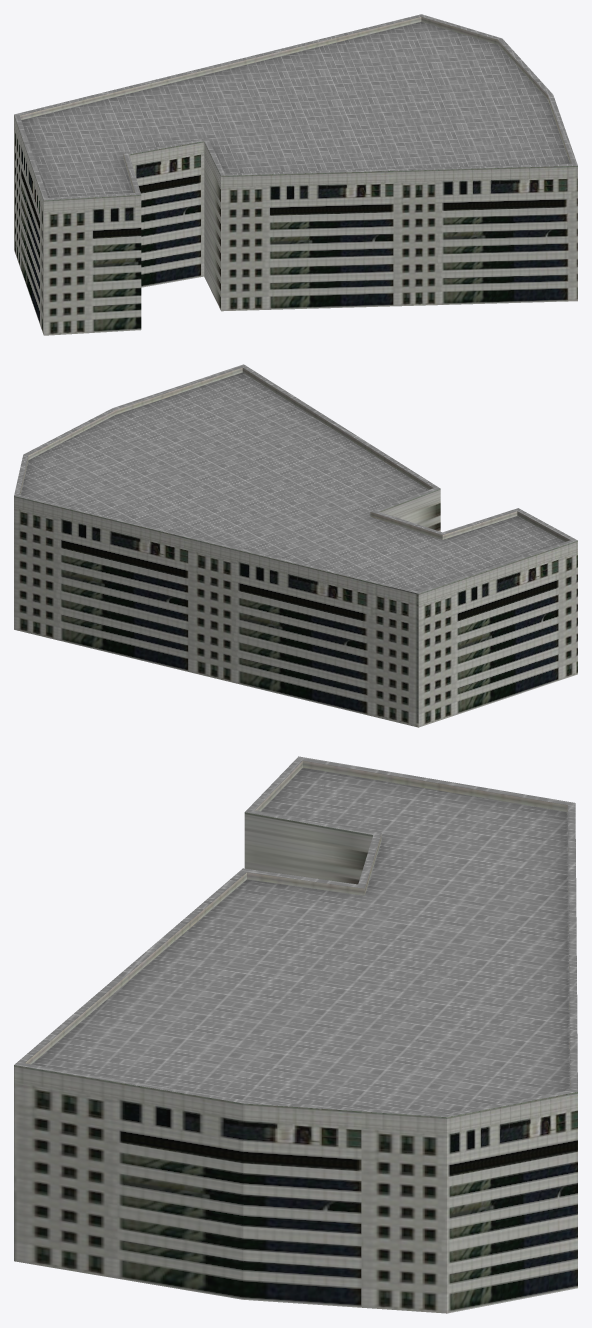
3 renders of one model, top to bottom at view 1: azimuth 30°, elevation 25°; view 2: azimuth 150°, elevation 25°; view 3: azimuth 270°, elevation 25°, orthographic. The views are drawn at different scales.
Parts seen in each view (by area): view 1: MainBuilding; view 2: MainBuilding; view 3: MainBuilding.
Part boxes in pixels (<box>): MainBuilding: <box>14,14,577,335</box>; MainBuilding: <box>14,364,577,727</box>; MainBuilding: <box>14,756,577,1313</box>.
Bounding box in the file's own units: 1.1 × 0.28 × 0.729.
1 material, 1 textured.
